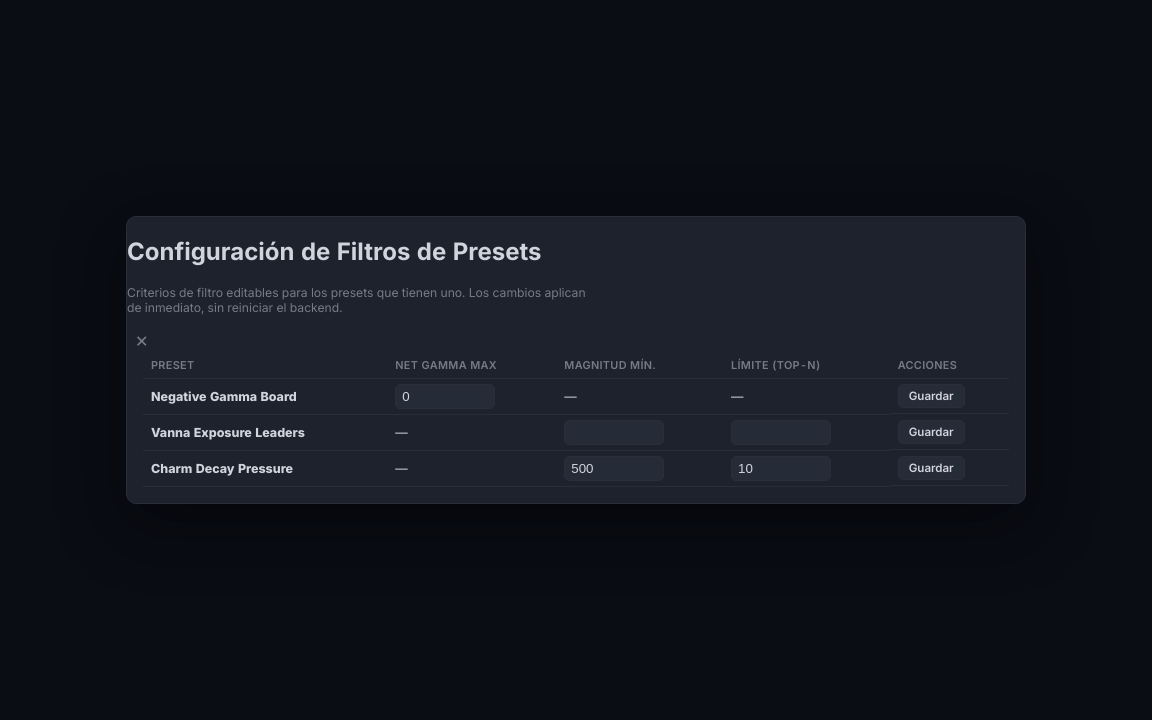
Test: ScreenerPresetSettingsPanel › edits and saves Negative Gamma Board's net_gamma_max, sending only that field
The width and height of the screenshot is (1152, 720).
Expected: the text "Negative Gamma Board" is shown, [143,379,387,415]
Replace the text in the number field named "Negative Gamma Board Net Gamma Max" with "-50" at point(445, 397), box [395,384,495,409]
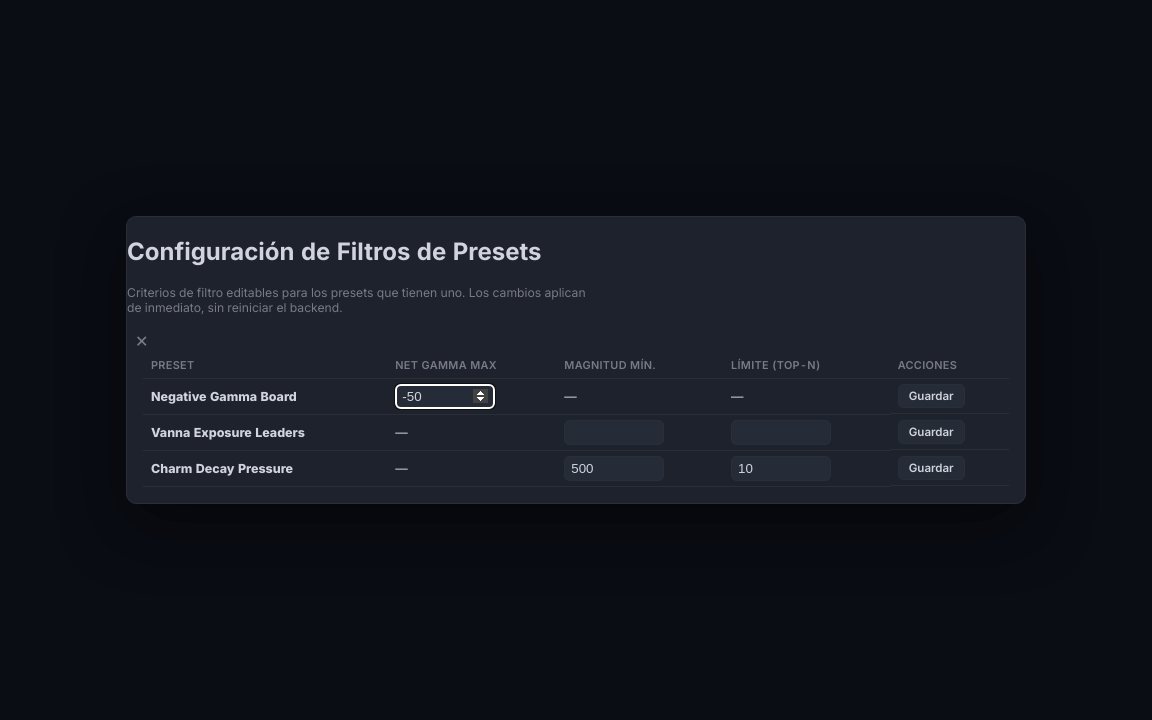
Click the button "Guardar" in the row of "Negative Gamma Board" at point(931, 396), box [898,384,965,408]
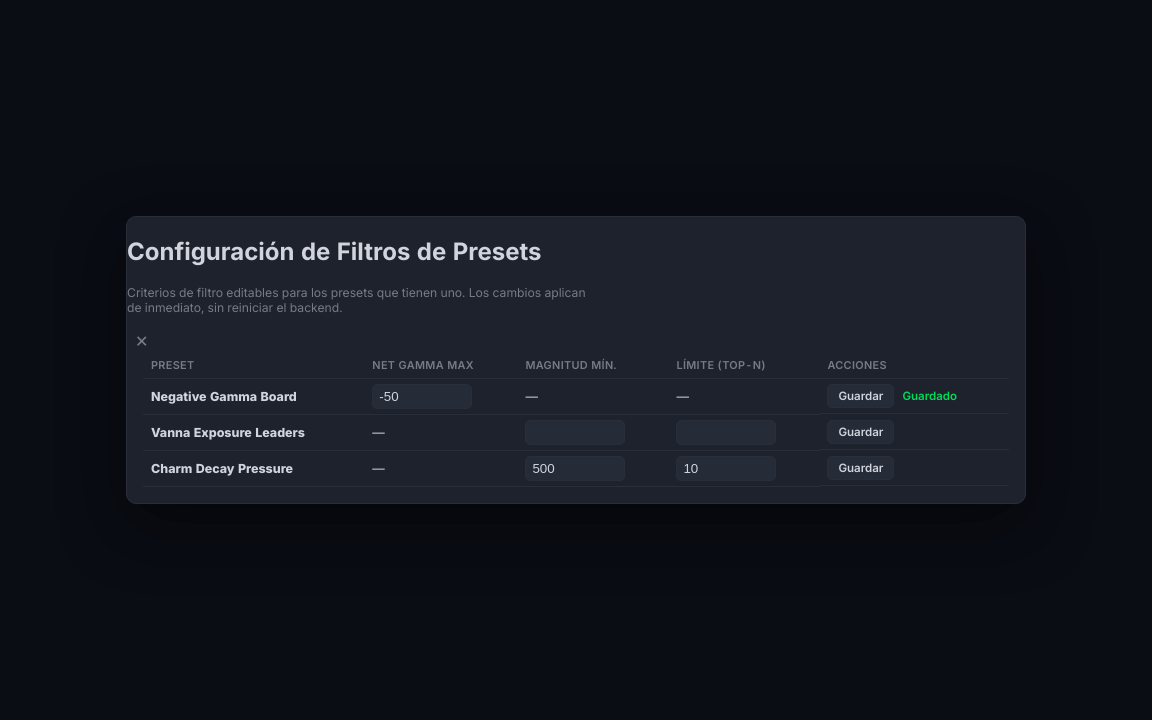
Now the text "Guardado" is shown, box [902,389,957,403]
